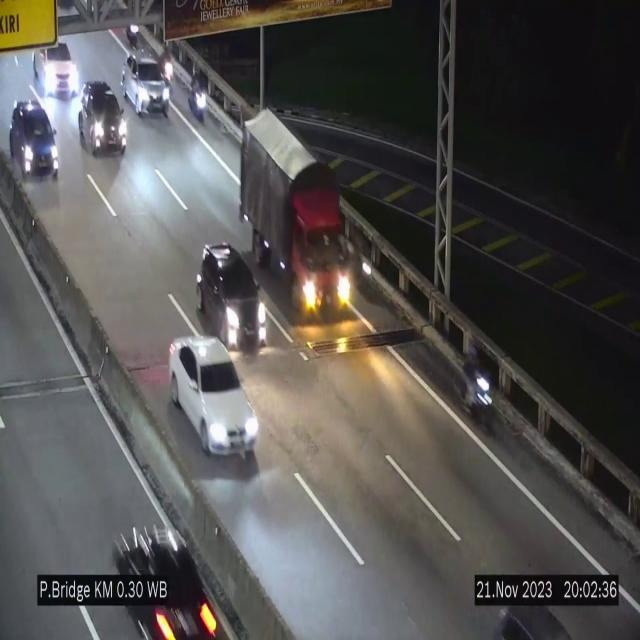Car: (103, 514, 221, 640), (168, 337, 259, 458), (192, 240, 269, 353), (9, 99, 66, 191), (75, 77, 127, 169), (36, 32, 80, 99), (122, 54, 170, 115)
Motorcycle: (452, 339, 499, 432), (187, 64, 208, 128), (352, 230, 372, 297), (161, 42, 175, 91)
Truck: (236, 105, 353, 328)
